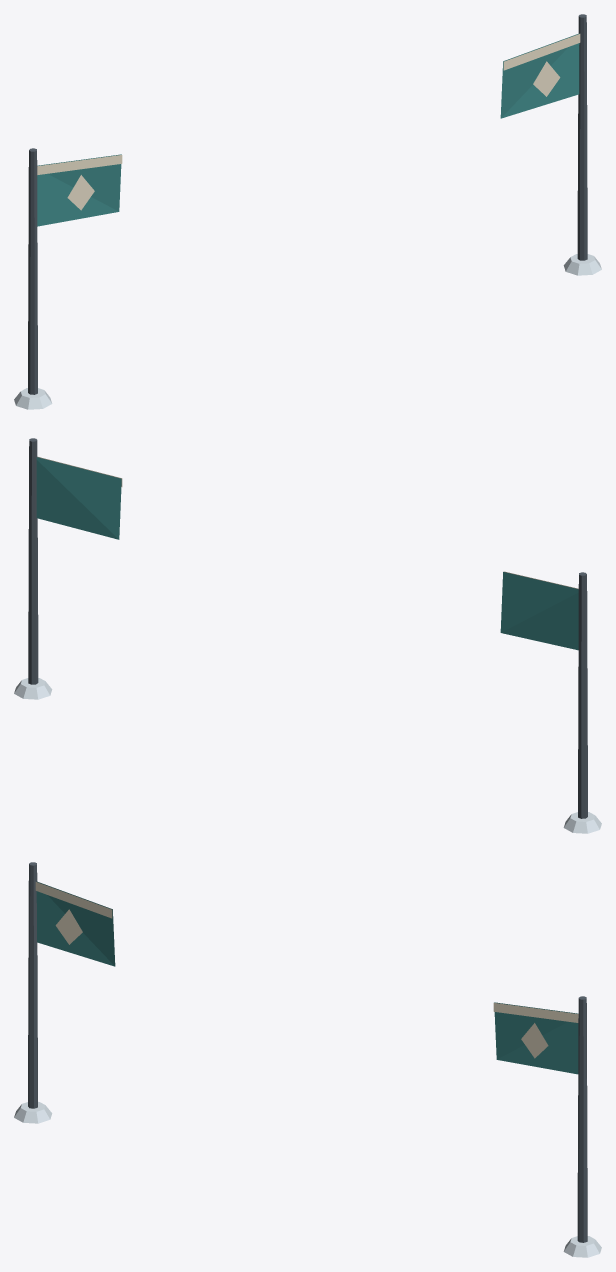
File: gate-teal.glb
3 views of the same model, one above another, from view 1: azimuth 30°, elevation 25°; view 2: azimuth 150°, elevation 25°; view 3: azimuth 330°, elevation 25° (orthographic).
Visible parts, largest first — view 1: gate-teal; view 2: gate-teal; view 3: gate-teal.
Boxes of the visible parts, x1,y1,x2,y2 form: gate-teal: (14,14,601,409); gate-teal: (14,438,601,833); gate-teal: (14,862,601,1257).
Size of the model in its own units: 6.8 by 2.8 by 0.4.
